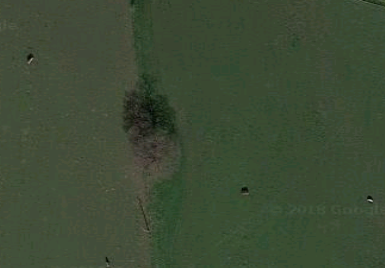tree: (111, 98, 198, 189)
